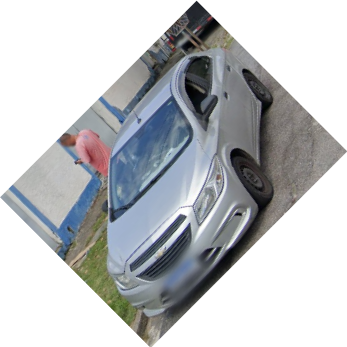car: (99, 46, 275, 318)
